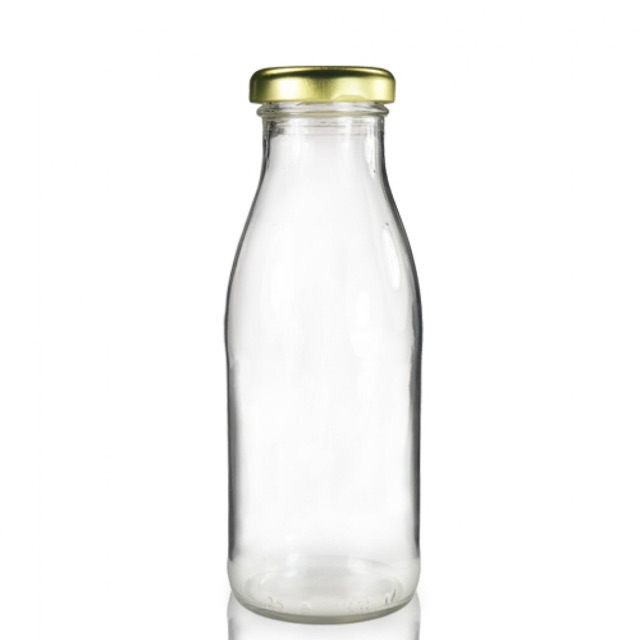glass_bottle: (218, 59, 426, 627)
